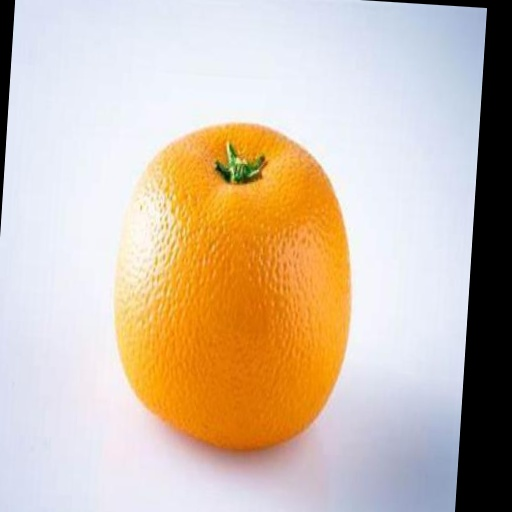fruit: (114, 124, 350, 449)
